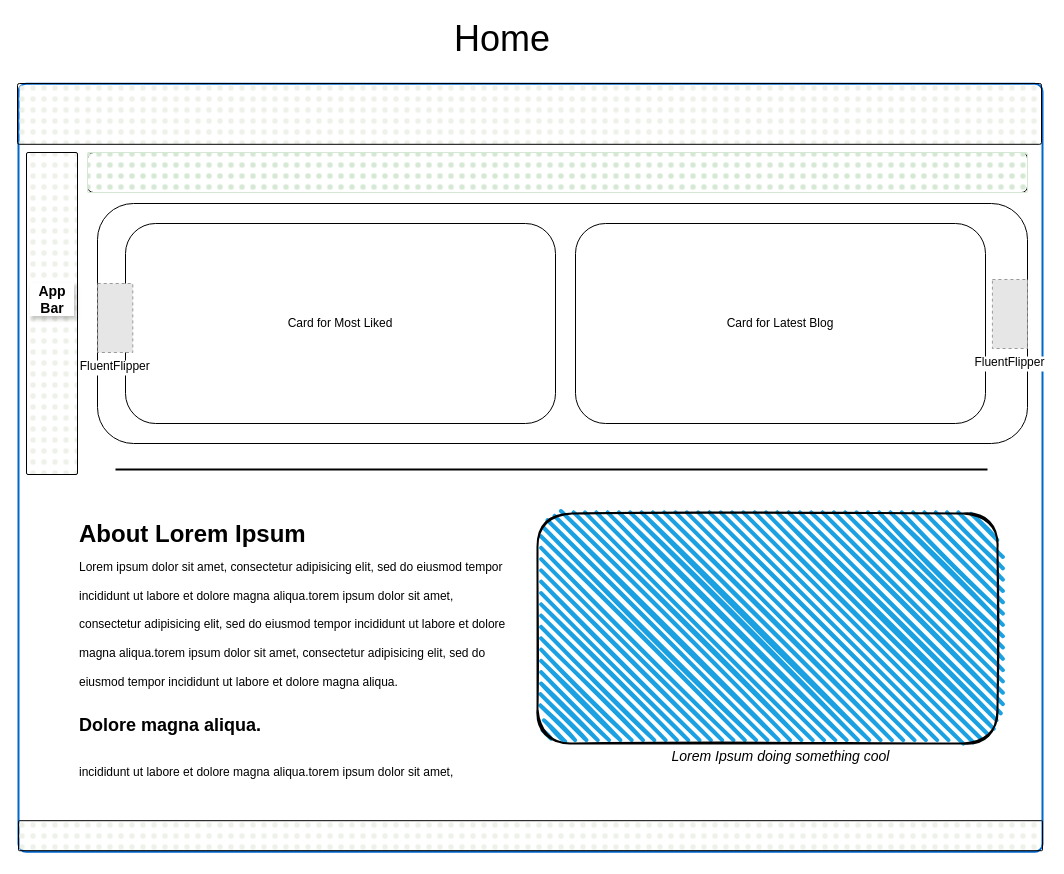
Image size: 1064x874. Some labels were removed from this diagram. Grey dashed boxes stand in for pictures. Here are the shapes that lost their labels. From the top down, the centre of each, then its label:
the point at 529,113: Header
the point at 557,172: Search
the point at 530,835: Footer
